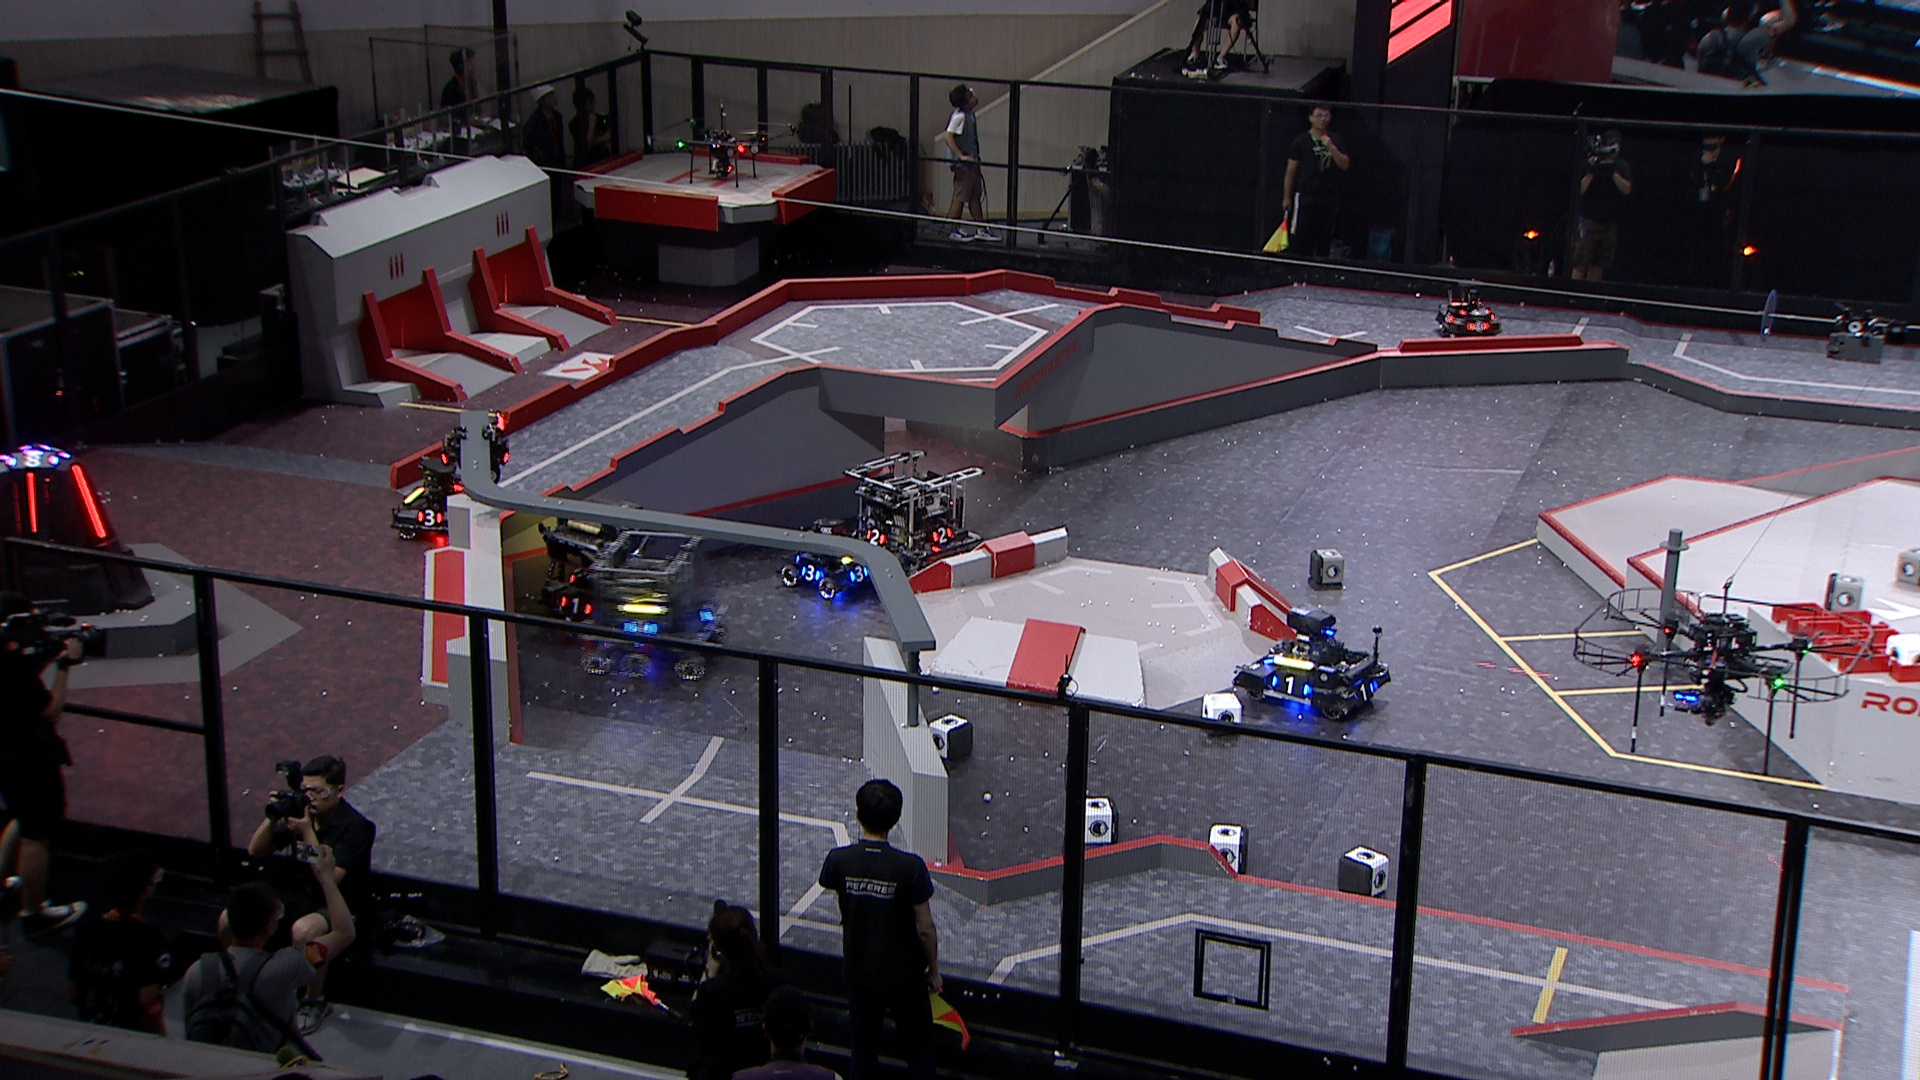armor: (71, 462, 109, 541), (25, 469, 40, 537), (1269, 673, 1309, 695), (558, 595, 593, 616), (621, 618, 655, 638), (1258, 647, 1284, 666), (1352, 683, 1377, 702), (417, 510, 444, 526), (799, 564, 822, 583), (862, 529, 885, 546), (1466, 319, 1491, 334), (849, 566, 870, 583), (932, 527, 951, 546), (699, 605, 713, 626), (1465, 305, 1487, 316), (1441, 310, 1457, 324)
car: (571, 524, 723, 680), (841, 450, 981, 588), (1230, 607, 1391, 721), (531, 500, 657, 640), (778, 512, 880, 599), (384, 456, 479, 541), (1433, 281, 1501, 339)
ignore: (7, 448, 55, 465)
watcher: (433, 410, 513, 496)
